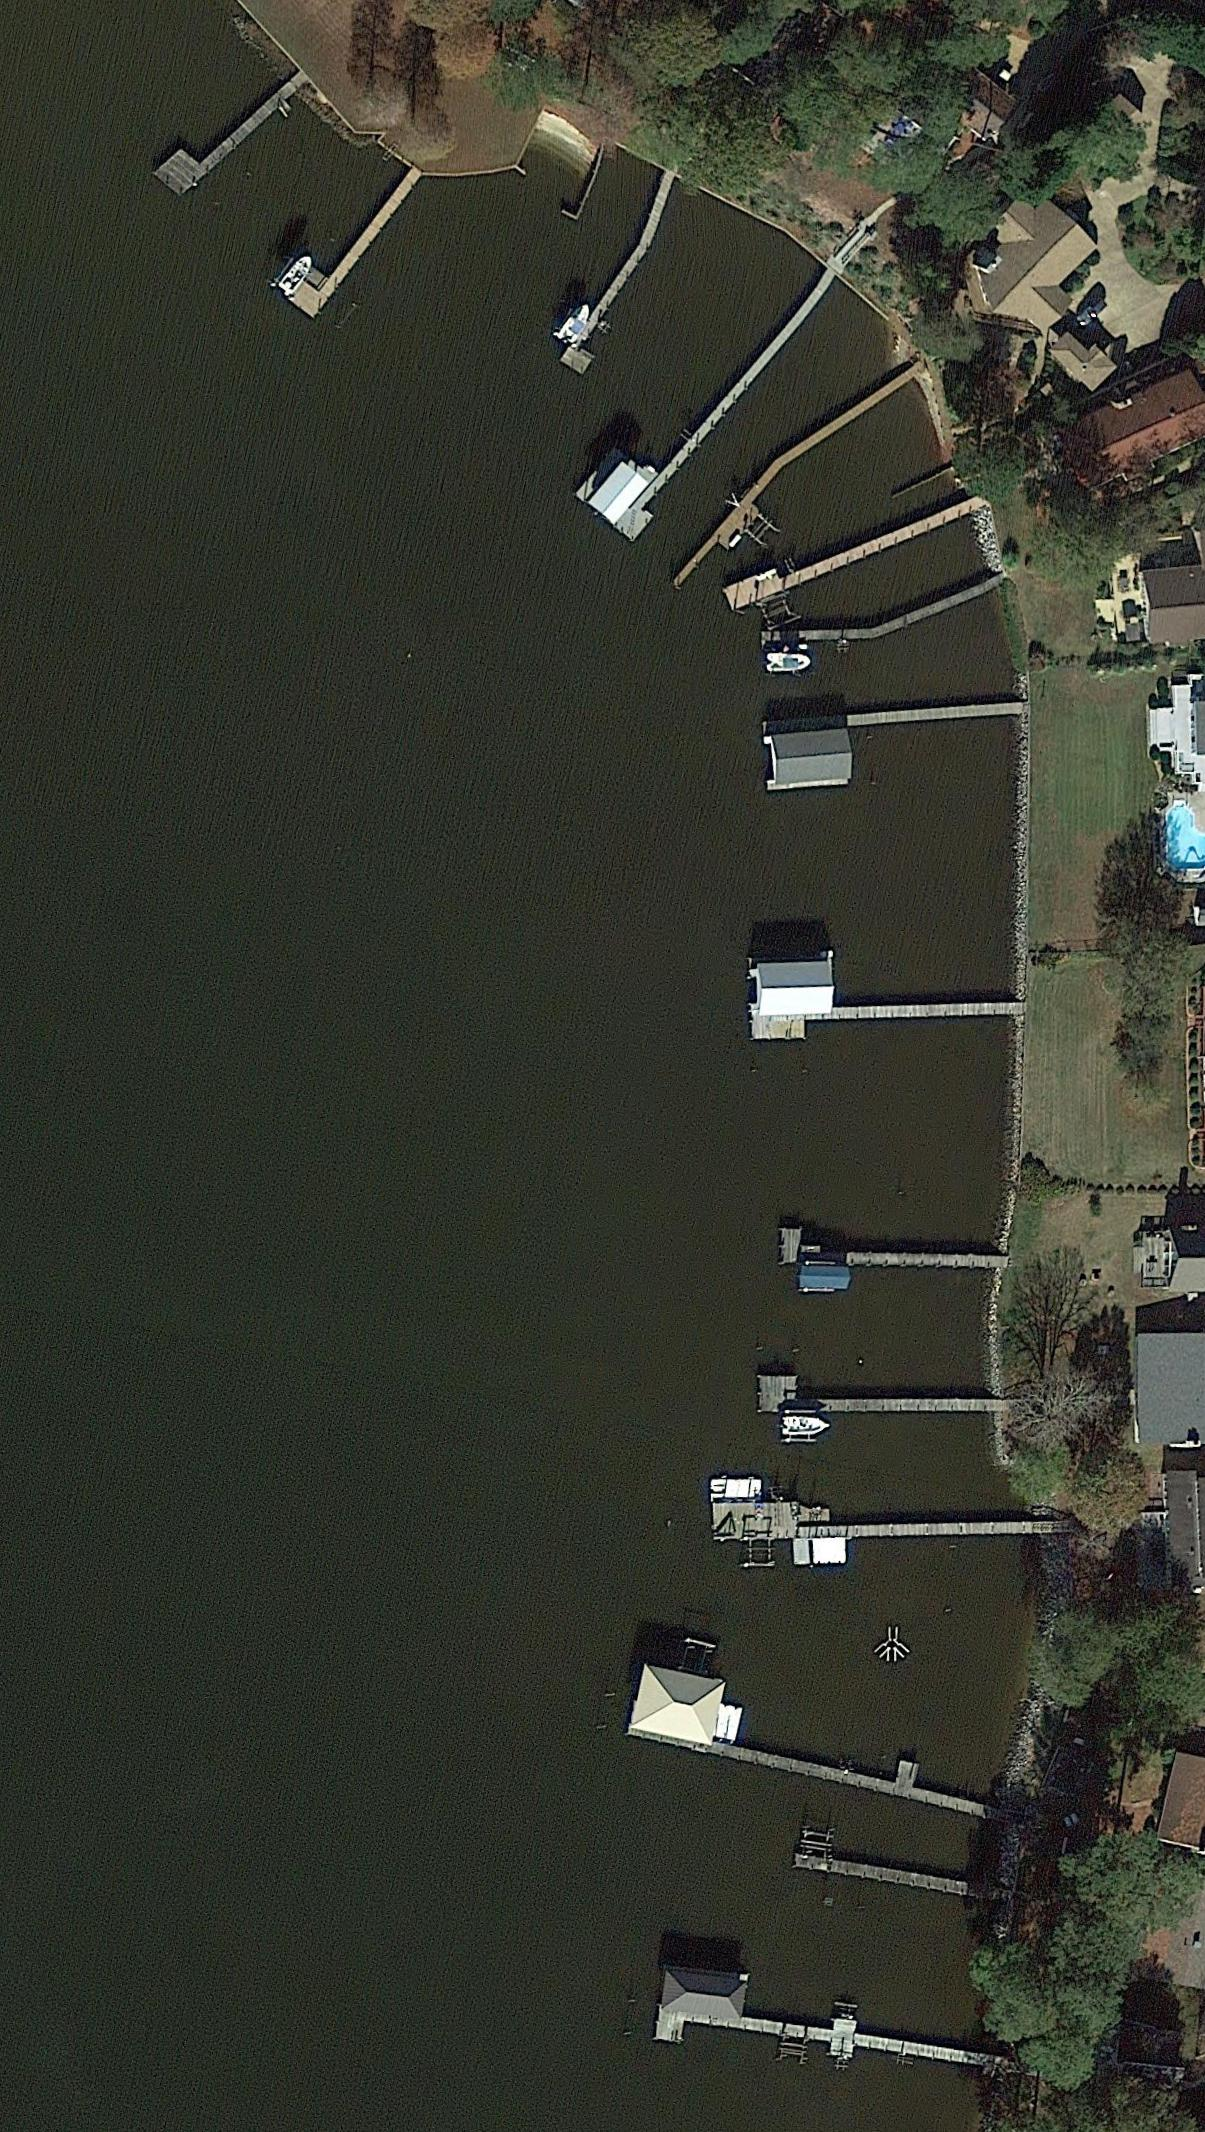harbor: (627, 1662, 982, 1811), (615, 307, 823, 543), (653, 1964, 930, 2084), (723, 489, 974, 616), (763, 701, 1022, 795), (750, 949, 985, 1043), (288, 157, 422, 321), (152, 67, 291, 201), (671, 460, 797, 600), (715, 1491, 1000, 1545), (559, 243, 663, 376), (757, 1375, 968, 1414), (782, 1229, 974, 1270), (794, 1852, 966, 1896), (761, 630, 873, 652)
ship: (277, 252, 318, 297), (556, 300, 594, 347), (764, 652, 811, 674), (783, 1416, 832, 1436)
